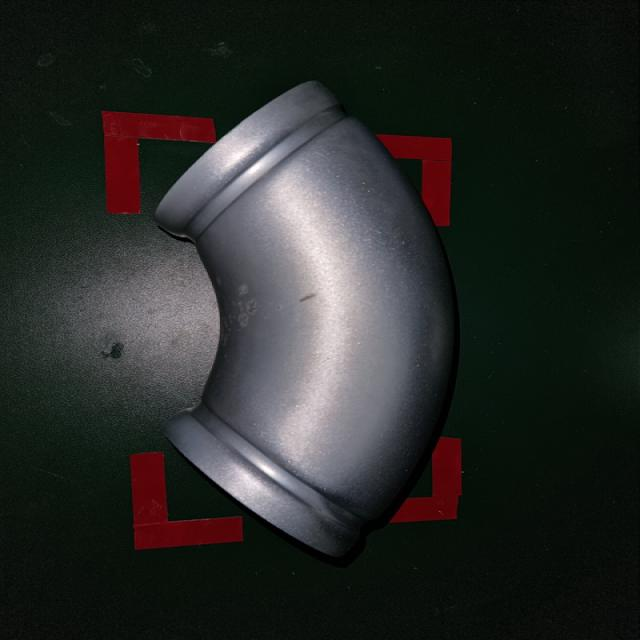Defect: (149, 76, 477, 564)
Hole: (207, 272, 321, 338)
